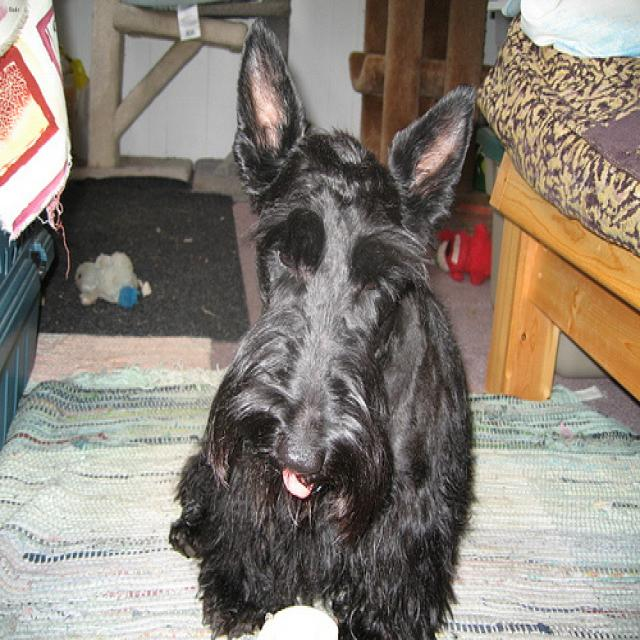dog-scottish_terrier: (160, 7, 488, 637)
